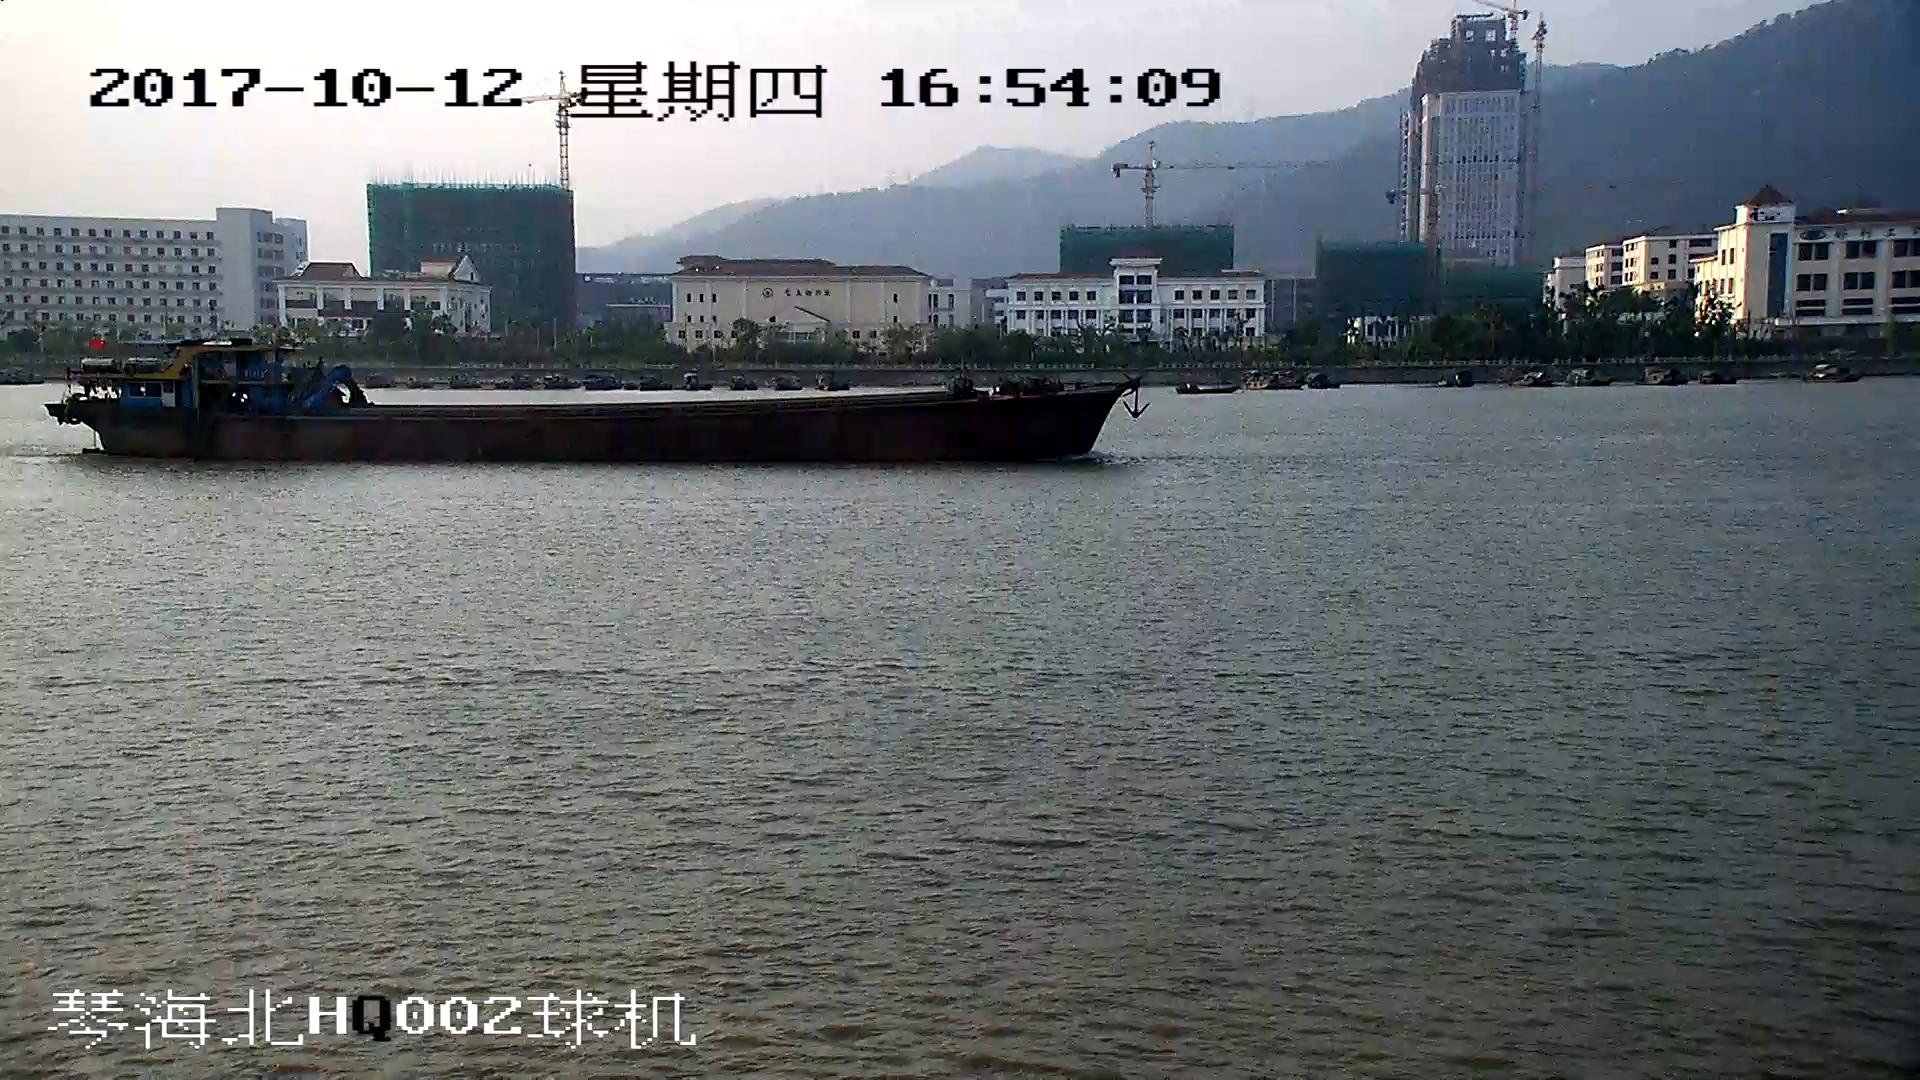bulk cargo carrier: (48, 330, 1144, 460)
